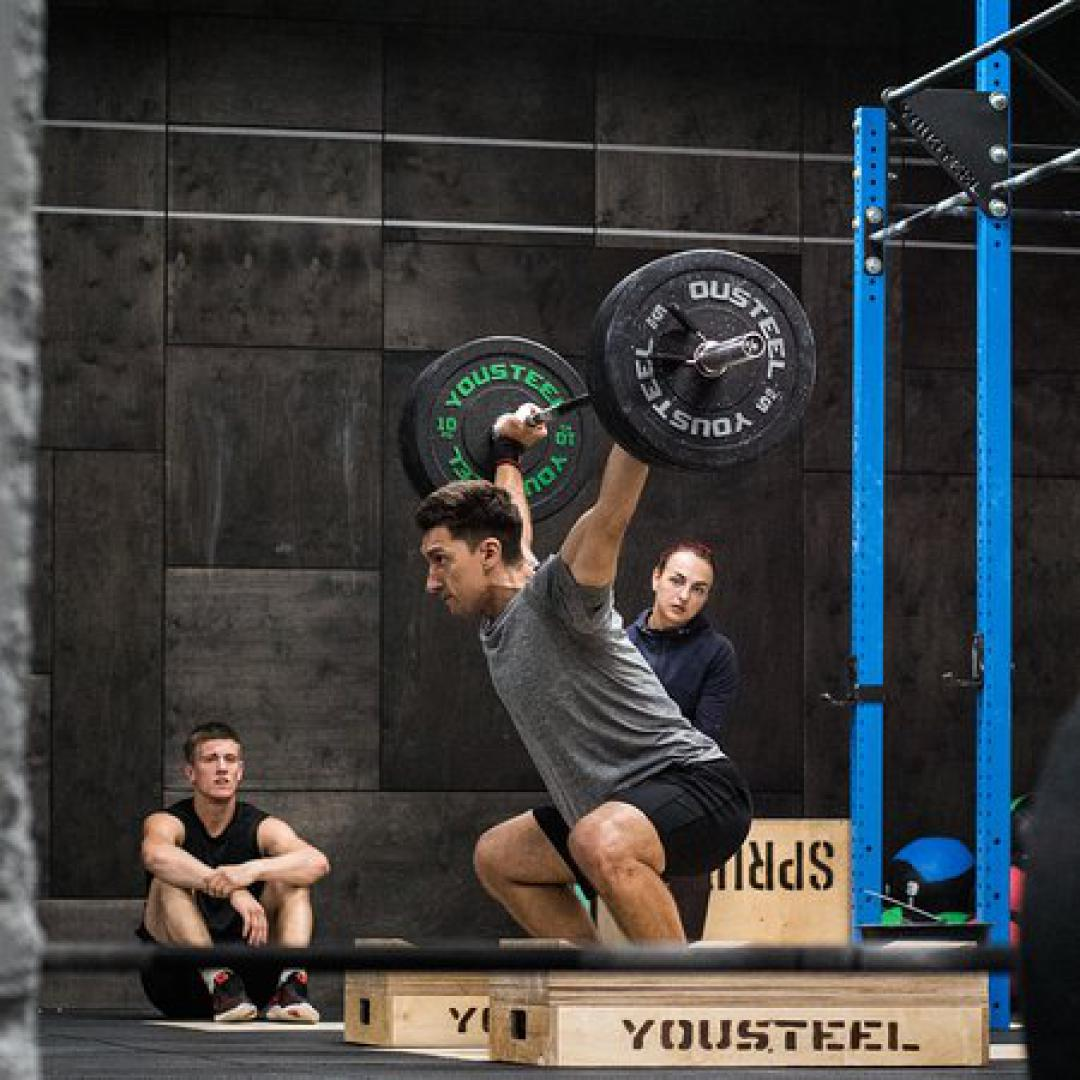Bar: (739, 329, 768, 360)
Barbell: (610, 252, 816, 470)
